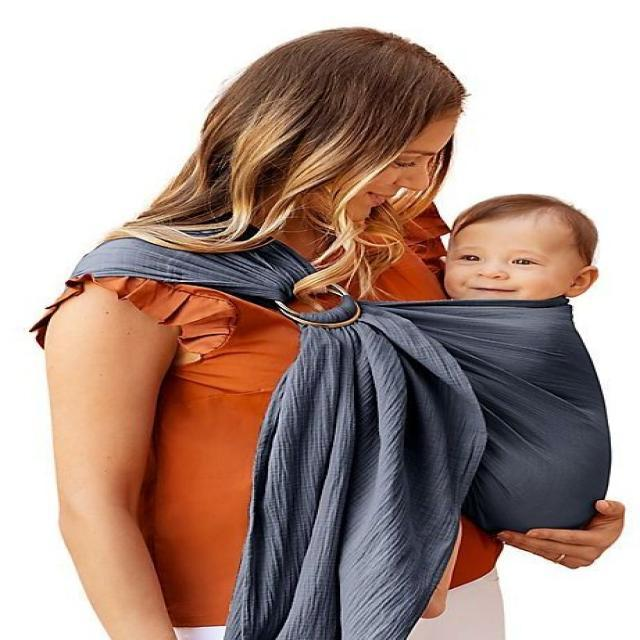non-dog: (28, 26, 633, 640), (433, 190, 604, 304)
